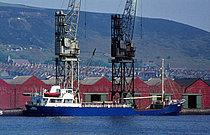Ship: (22, 82, 189, 120)
